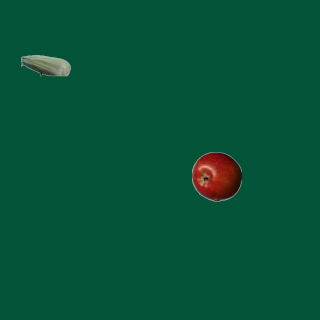Apple Braeburn: (191, 151, 241, 201)
Corn Husk: (20, 40, 70, 90)
